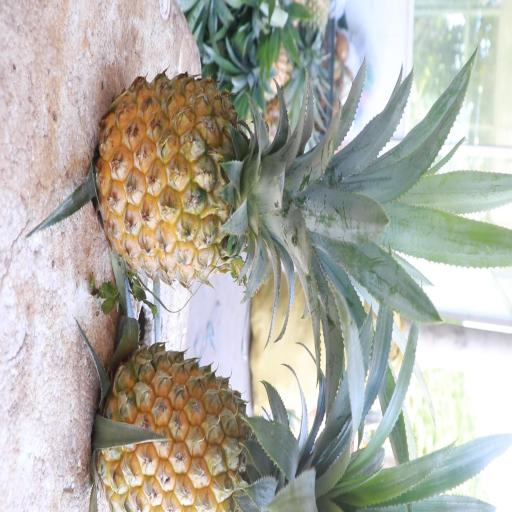Pineapple - v8 v1: (91, 65, 330, 293), (93, 337, 337, 512)
